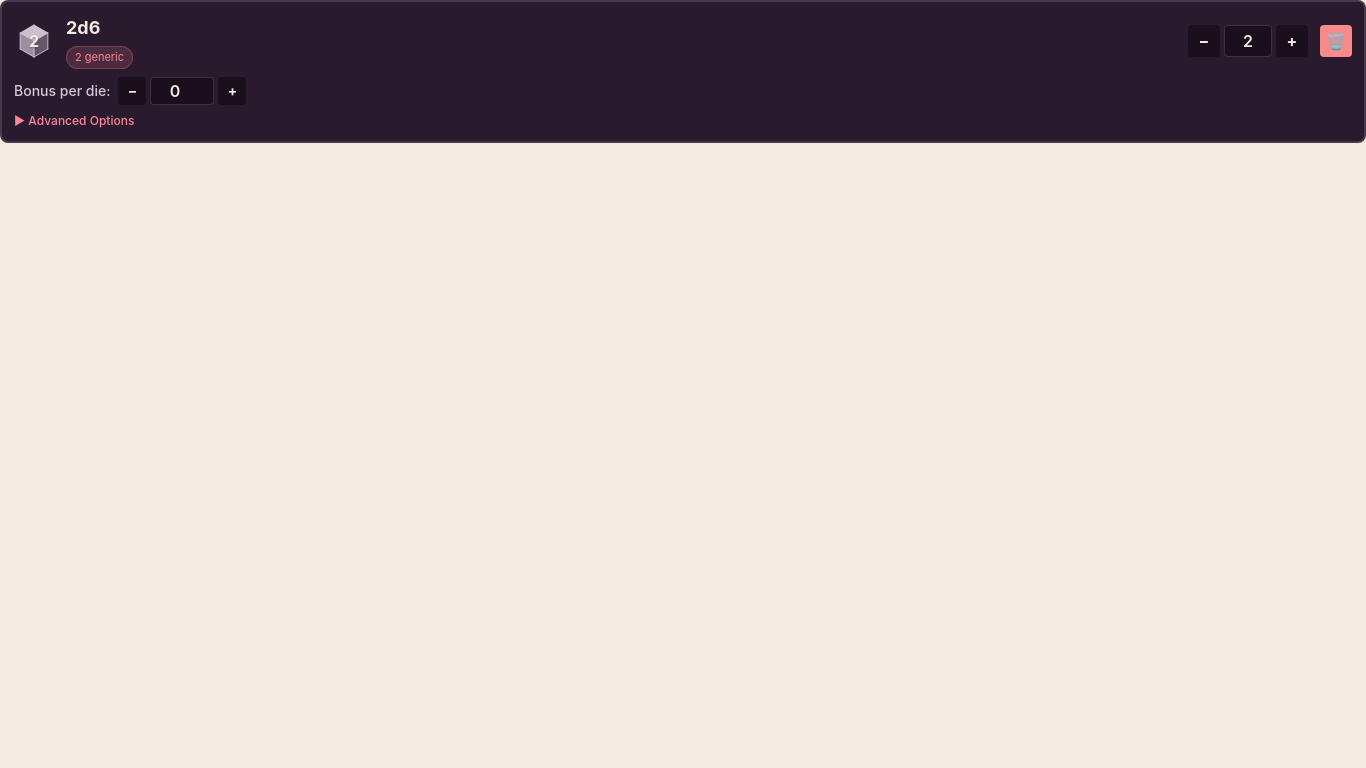
Test: DiceEntryCard quick presets › applies Great Weapon Fighting without changing how many dice are rolled
Click the button "▶ Advanced Options" at (80, 120), box [14, 112, 1352, 128]
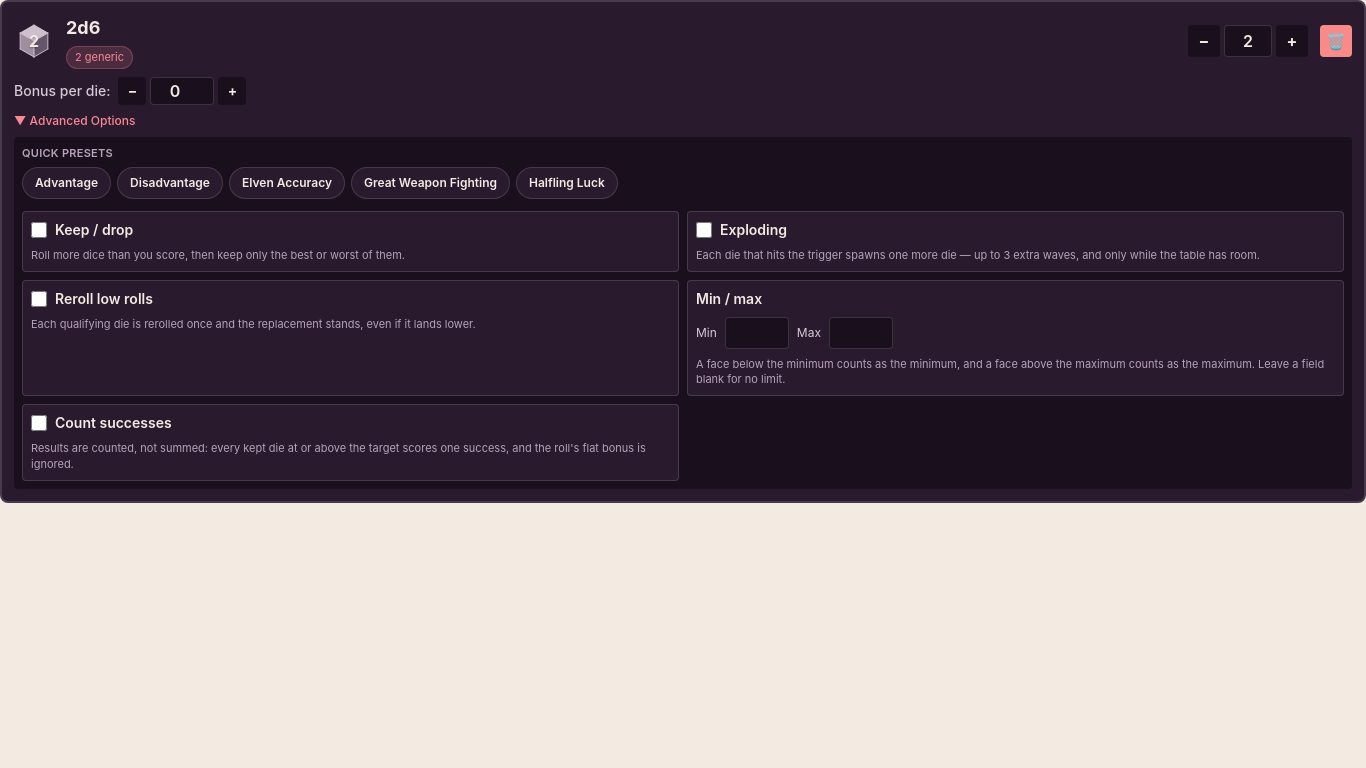
Click the button with aria-label "Apply Great Weapon Fighting to D6" at (430, 183), box [351, 167, 510, 199]
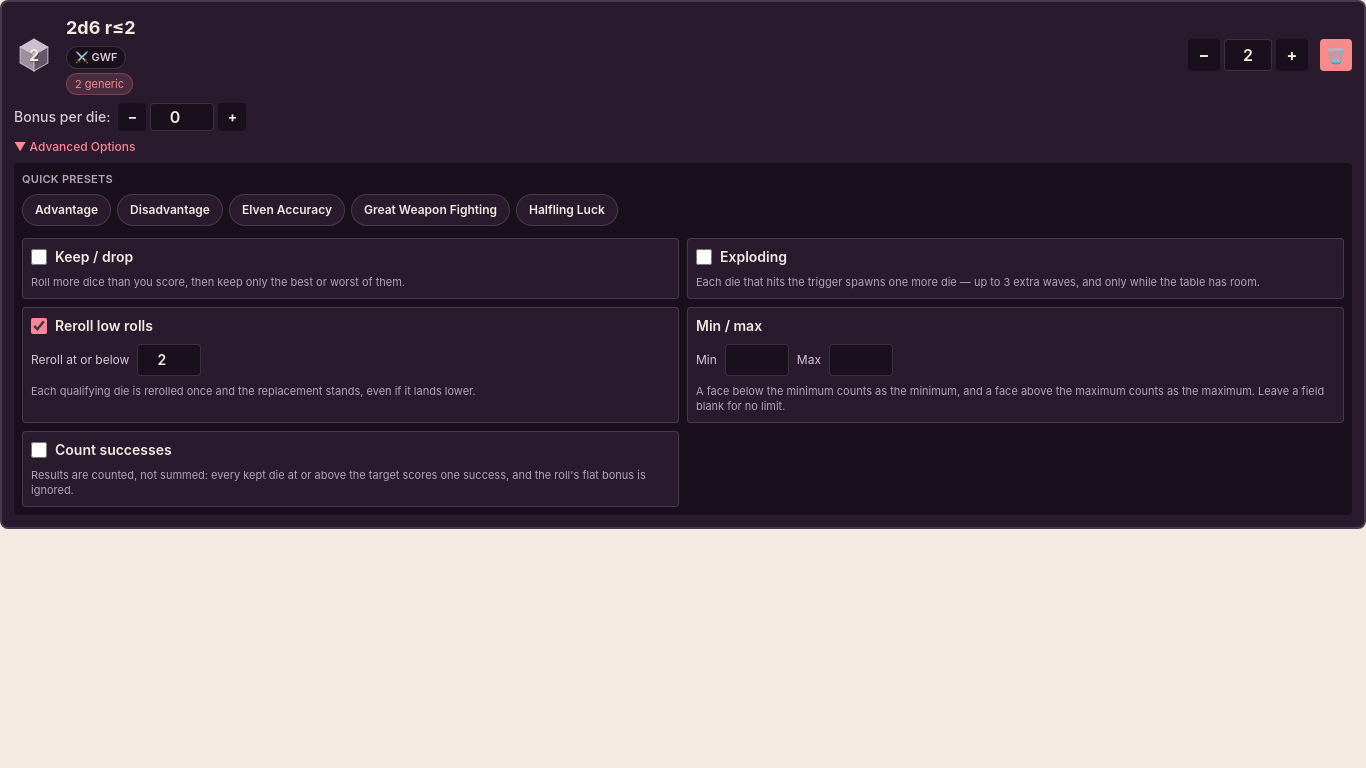
Check: the text "2d6 r≤2" is shown, box [66, 17, 136, 38]
